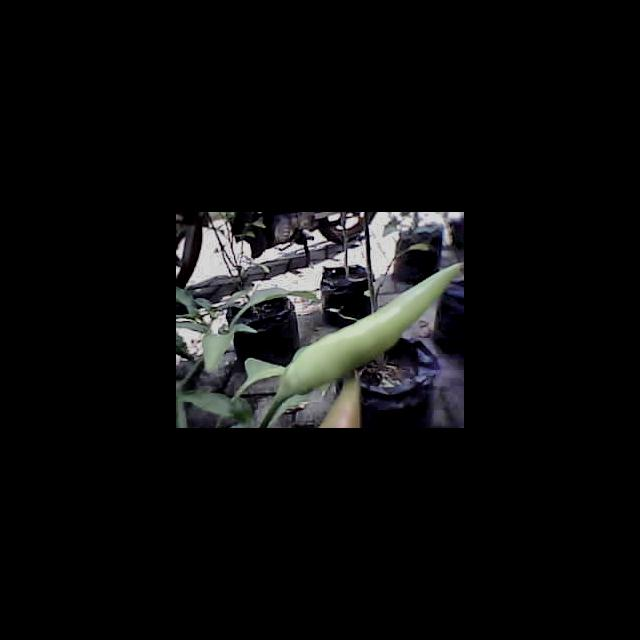Cabai: (325, 381, 358, 428)
